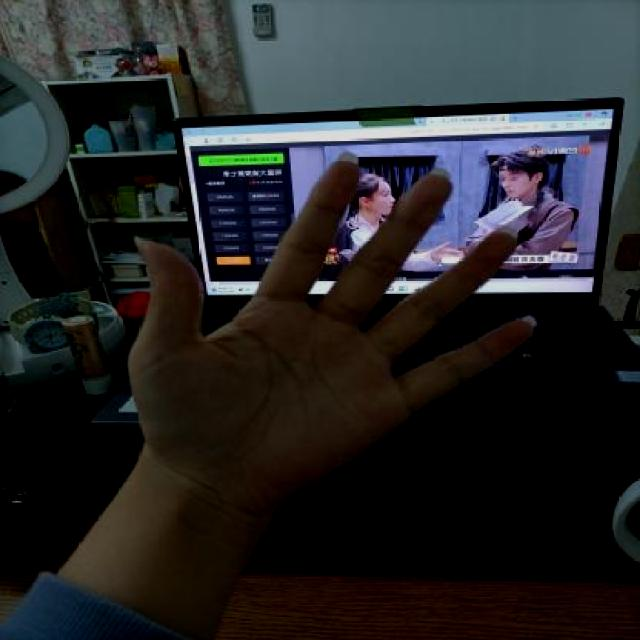no_glove: (110, 144, 556, 519)
